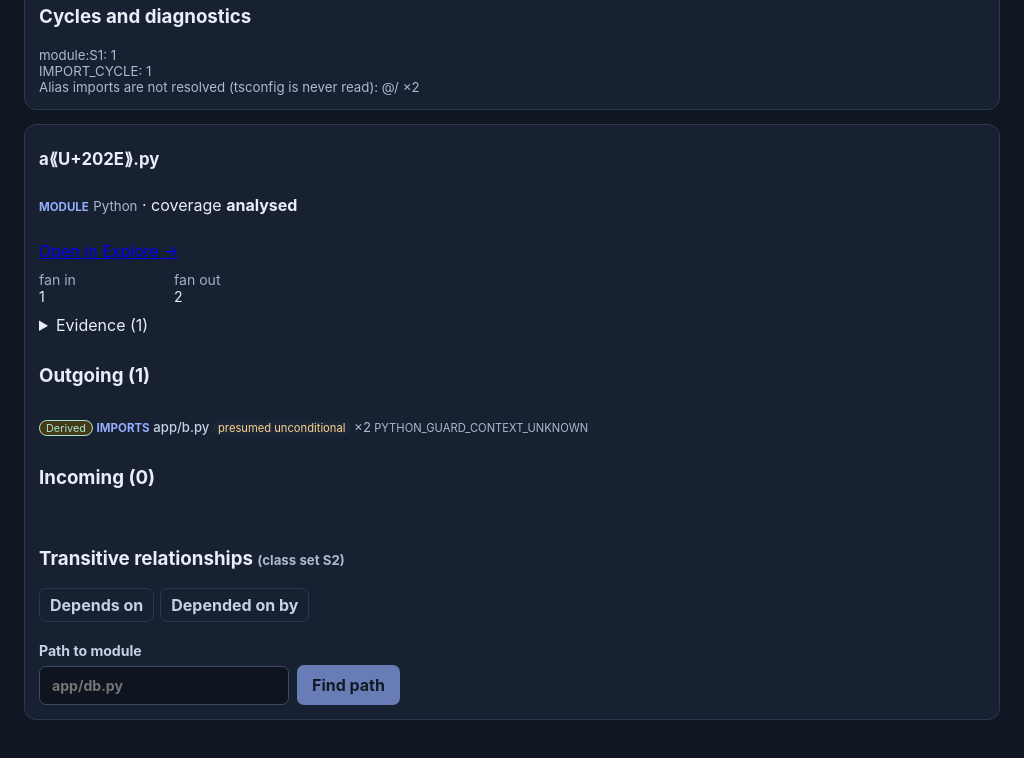
ArchitecturePage › never reports a plain absence when gaps remain
(page scrolled)
Type "app/b.py" into the field with placeholder "app/db.py" at (164,686), box [39,666,289,705]
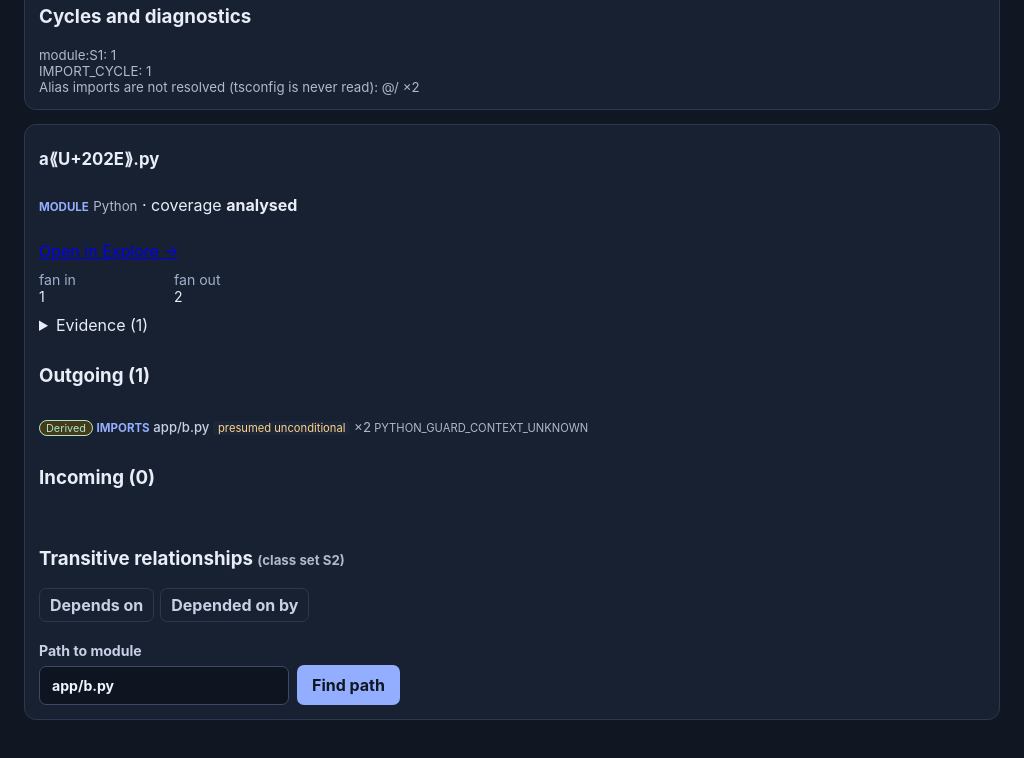
Click the button "Find path" at (348,685), box [297,665,400,705]
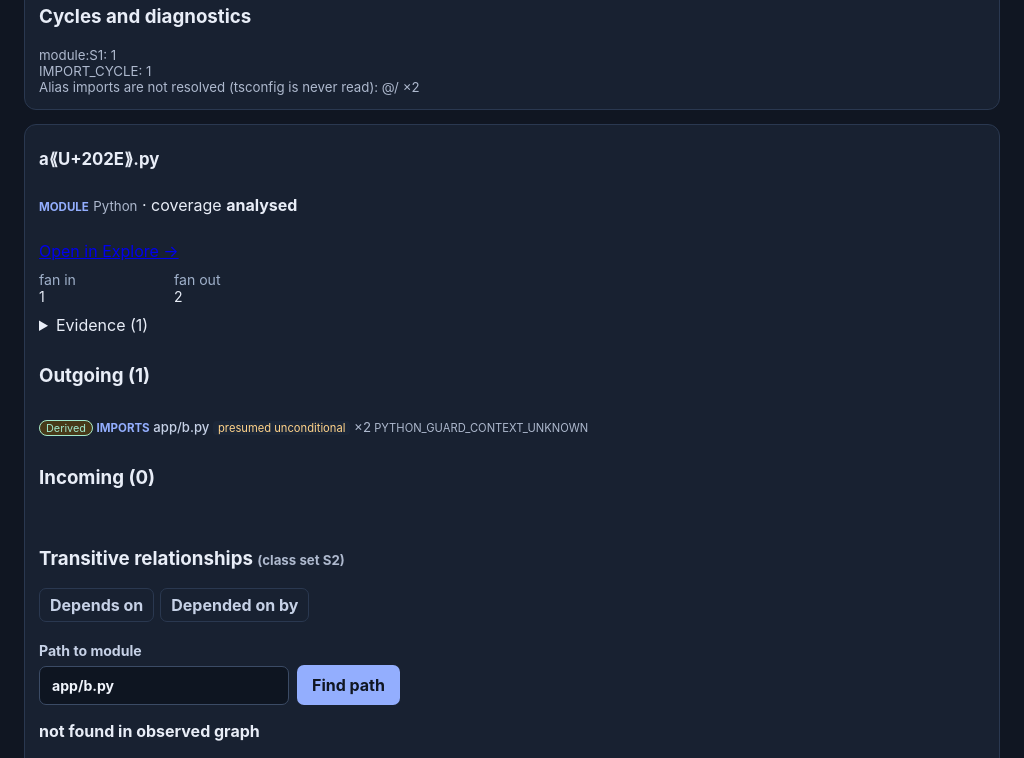
Result: the text "not found in observed graph" is shown at [39,721,260,741]
